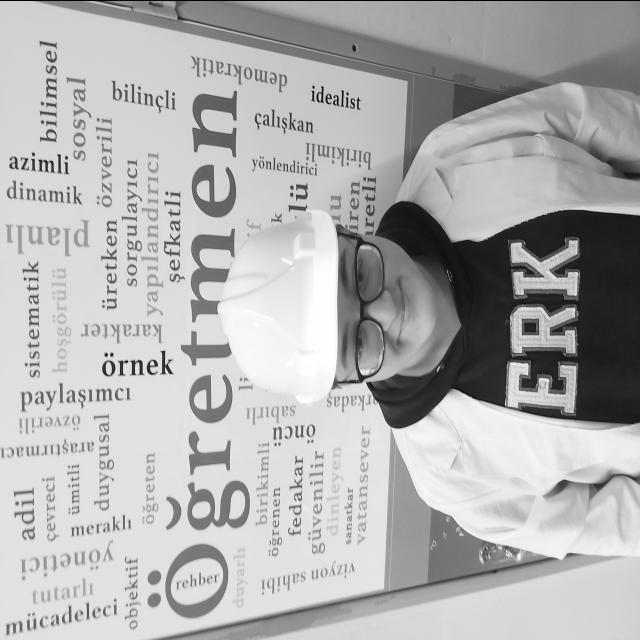safety_helmet: (220, 209, 346, 402)
